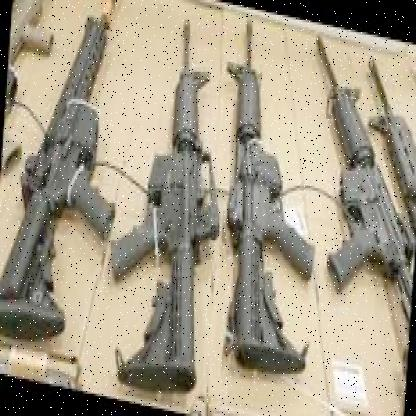rifle: (101, 0, 233, 401), (211, 7, 327, 389)
